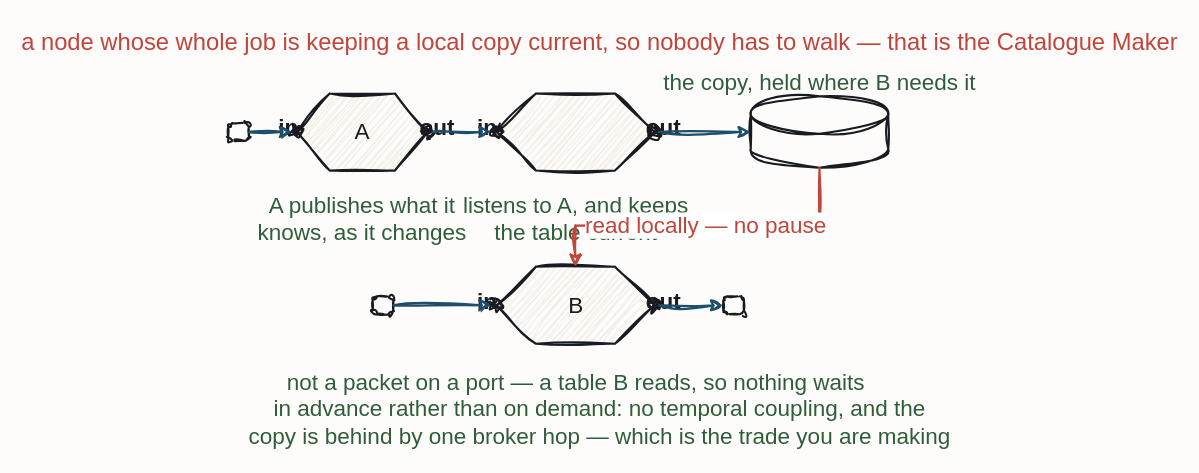
The diagram is 1199 pixels wide and 473 high, and some of its shapes have lost their labels. Each missing label, with the box of its shape:
Build Lookup: (495, 92, 655, 171)
lookup table: (749, 95, 889, 168)
